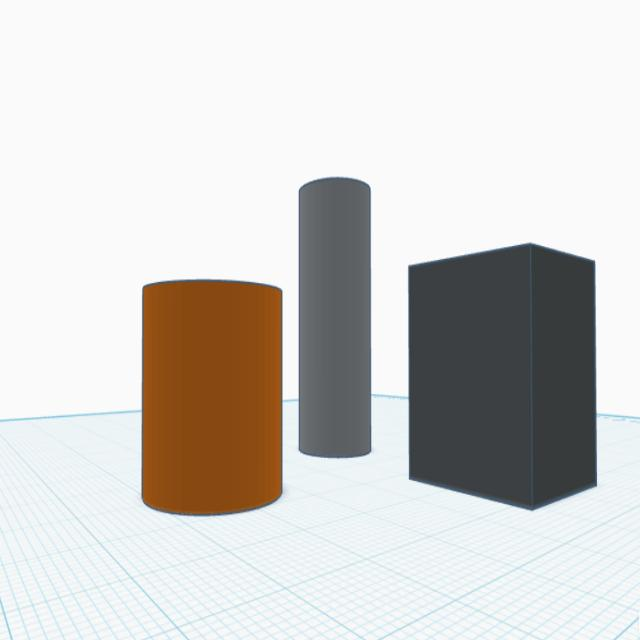cube: (402, 238, 601, 518)
